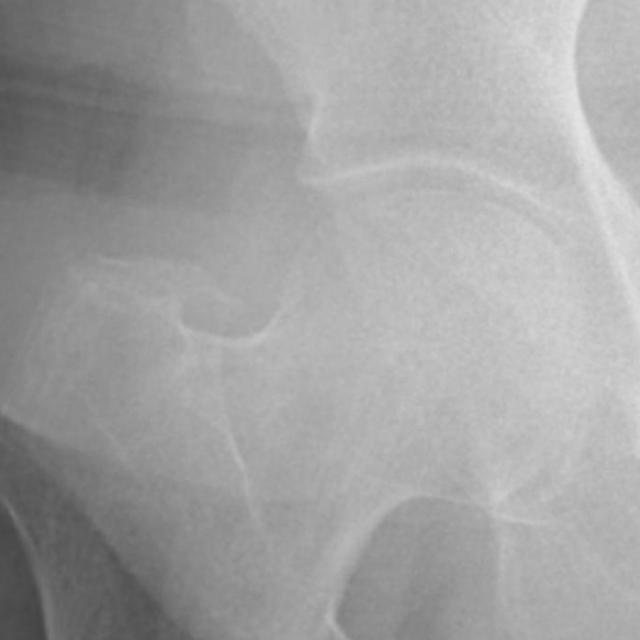Fitted_femural_head: (323, 190, 432, 323)
